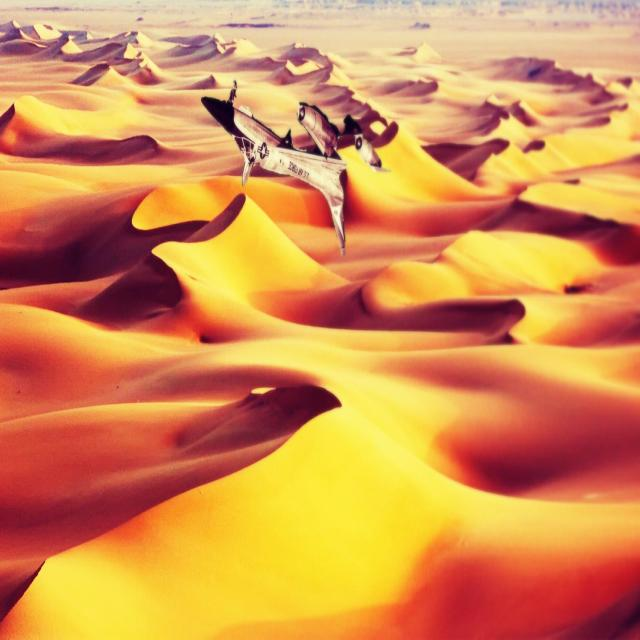airplane: (203, 93, 346, 255), (298, 97, 383, 167)
